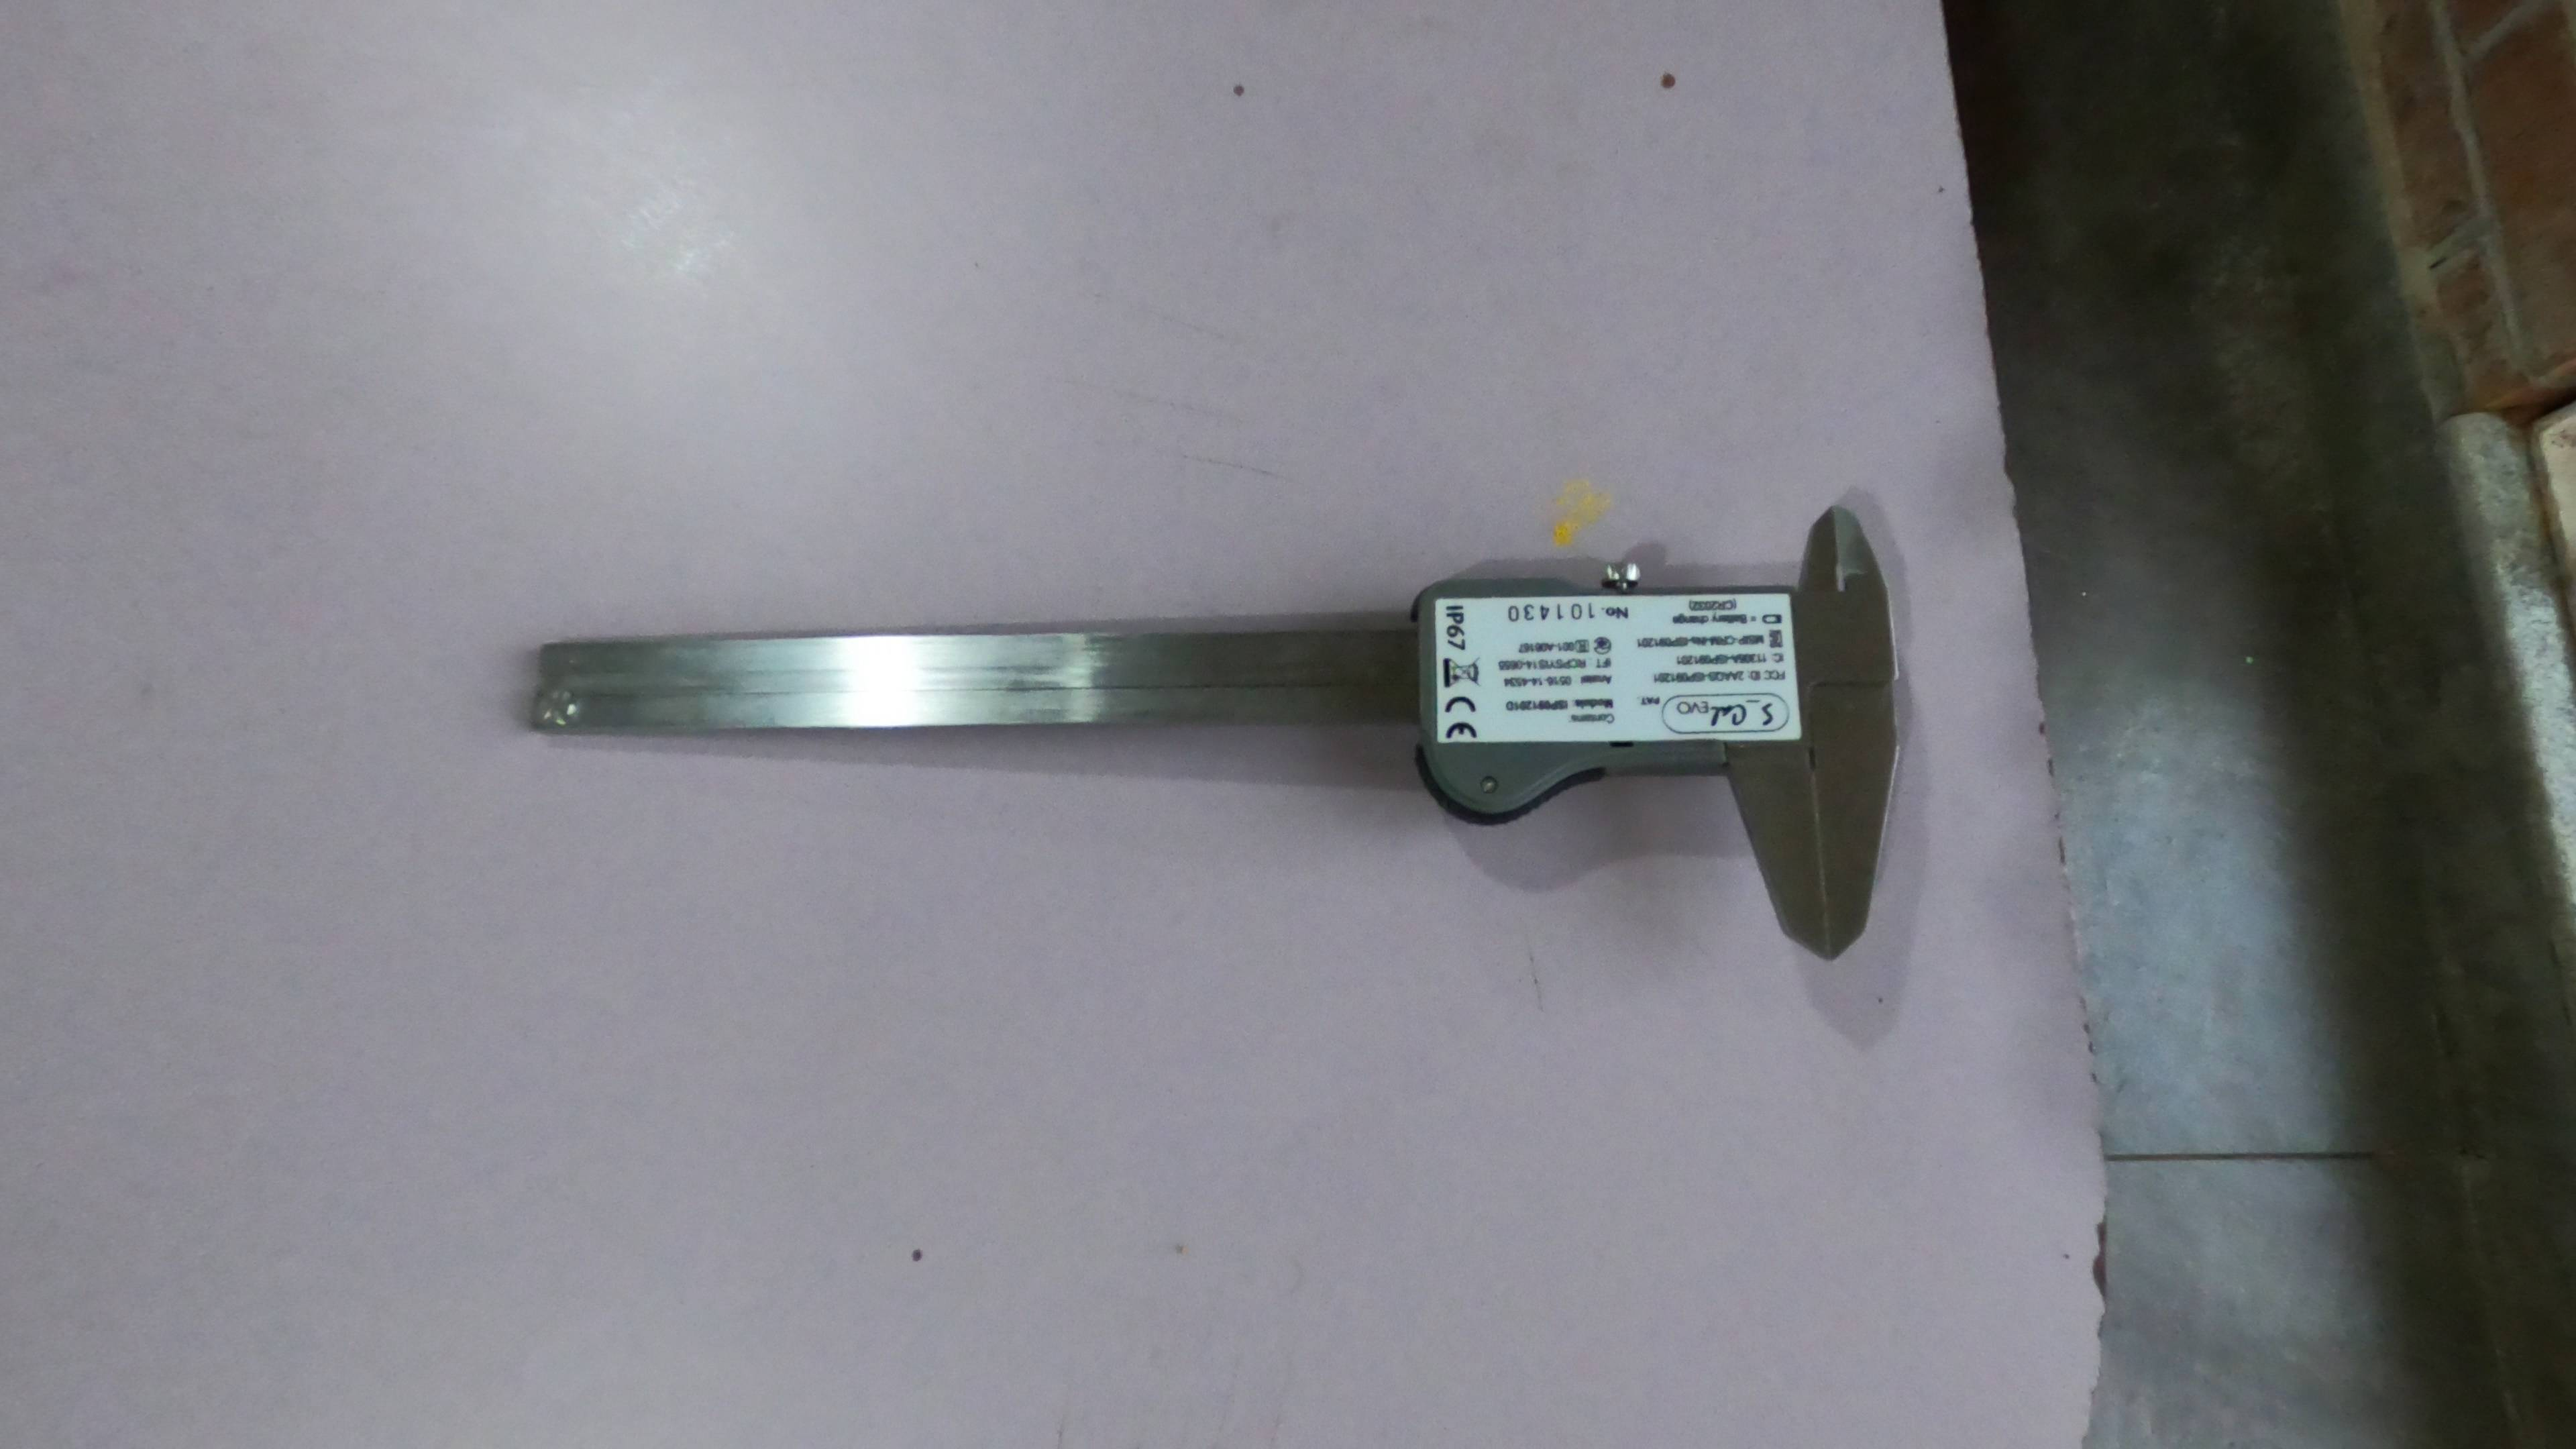vernier_caliper: (534, 502, 1911, 982)
